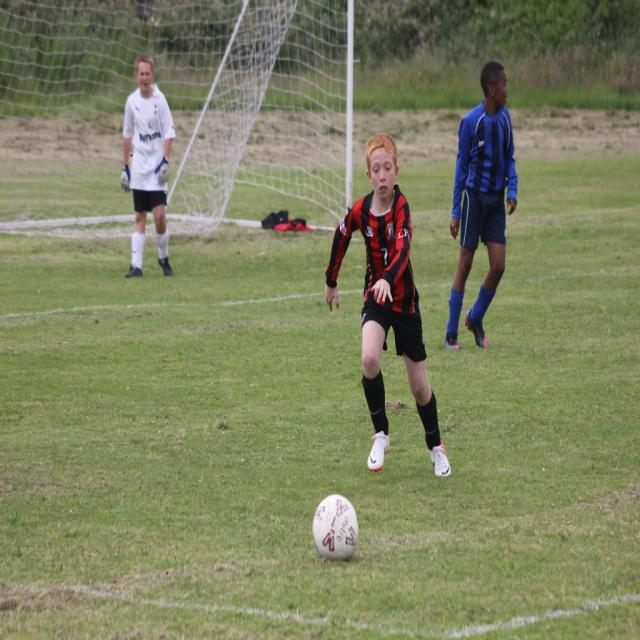no_helmet: (346, 191, 419, 261), (473, 141, 515, 195), (121, 132, 166, 180)
